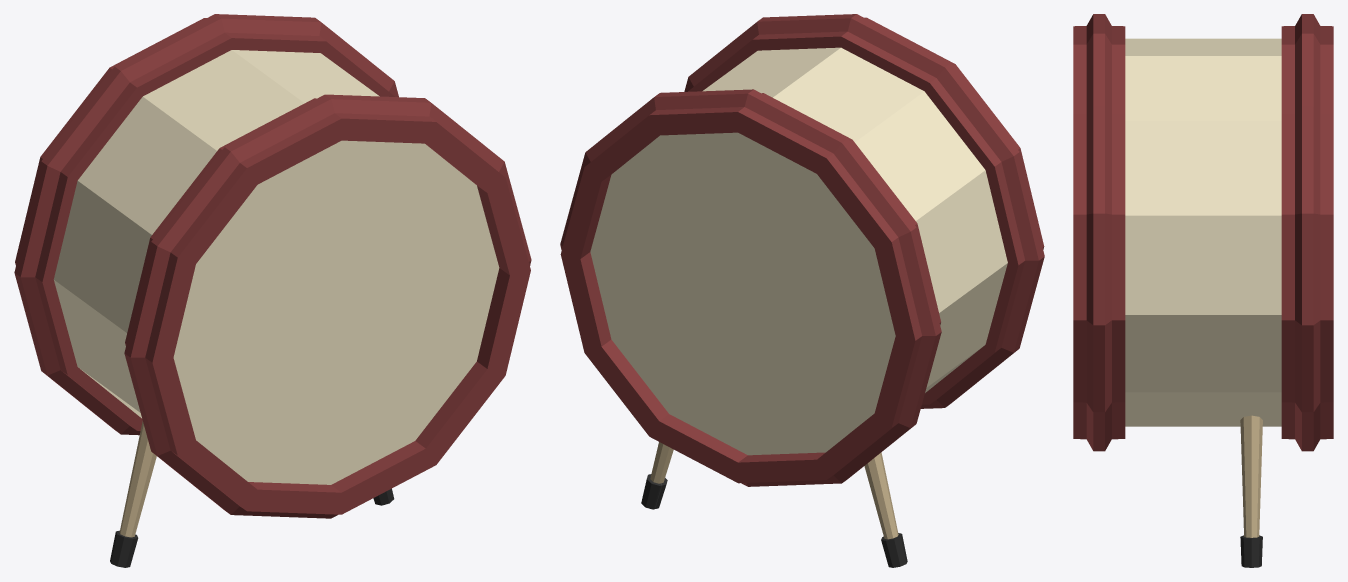
Rendered from drum4.fbx.
3 views of the same model, side by side, from view 1: azimuth 30°, elevation 25°; view 2: azimuth 150°, elevation 25°; view 3: azimuth 270°, elevation 25° (orthographic). The views are drawn at different scales.
Visible parts, largest first — view 1: drum4; view 2: drum4; view 3: drum4.
Part boxes in pixels (box(x1,y1,x2,y2)): drum4: box(14, 14, 531, 567); drum4: box(560, 14, 1044, 567); drum4: box(1073, 14, 1333, 567).
Size of the model in its own units: 27.64 by 16.41 by 32.77.
